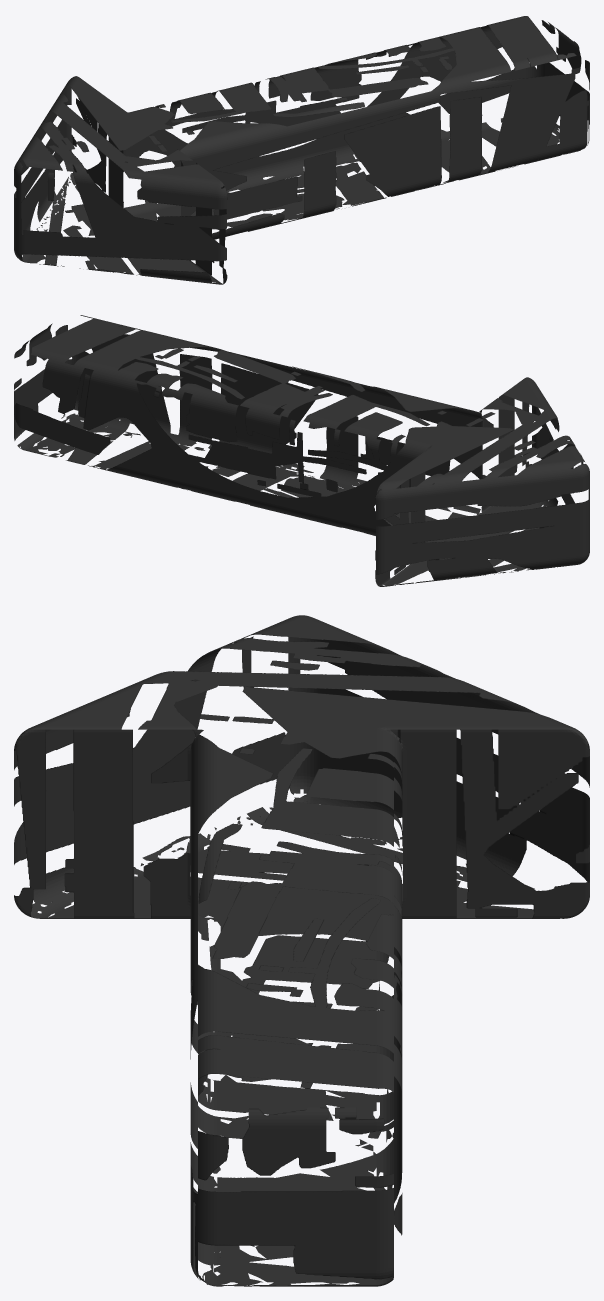
The model's file is Arrow.obj.
3 renders of one model, top to bottom at view 1: azimuth 30°, elevation 25°; view 2: azimuth 150°, elevation 25°; view 3: azimuth 270°, elevation 25°, orthographic. The views are drawn at different scales.
Visible parts, largest first — view 1: model_0; view 2: model_0; view 3: model_0.
Part boxes in pixels (box(x1,y1,x2,y2)): model_0: box(14, 16, 589, 284); model_0: box(14, 315, 589, 586); model_0: box(14, 615, 589, 1286).
Size of the model in its own units: 278 by 50 by 136.
